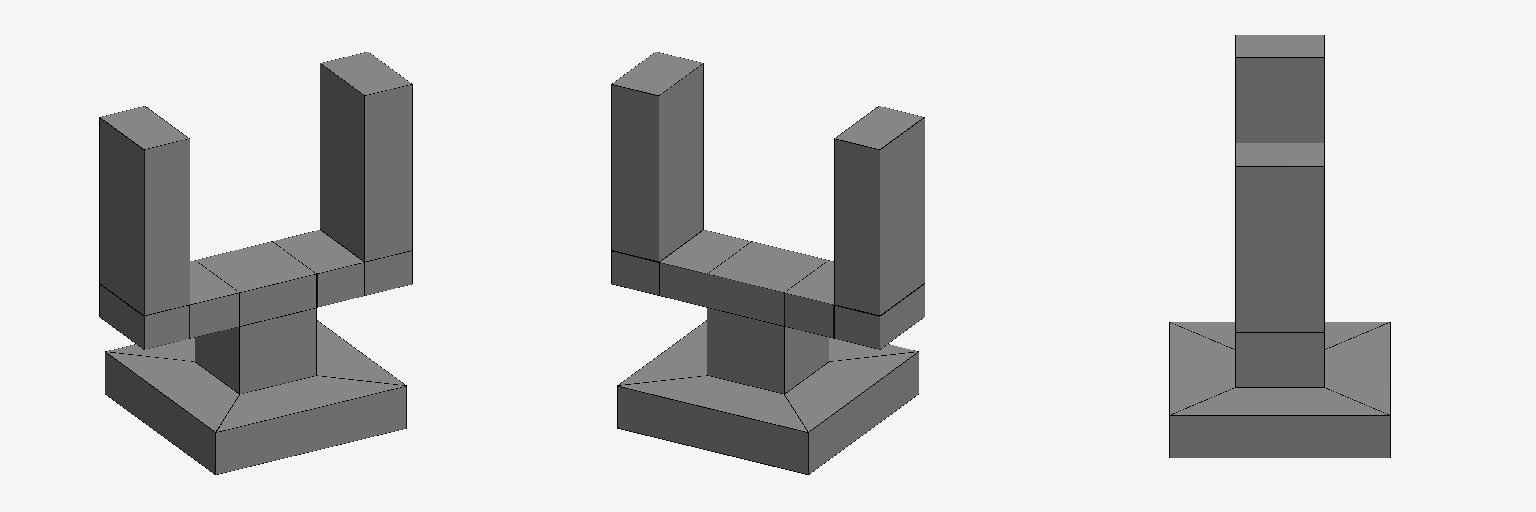
The picture shows the model from 3 angles: view 1: azimuth 30°, elevation 25°; view 2: azimuth 150°, elevation 25°; view 3: azimuth 270°, elevation 25°; orthographic projection.
Visible parts, largest first — view 1: search_light_base_Cube.020; view 2: search_light_base_Cube.020; view 3: search_light_base_Cube.020.
Part boxes in pixels (left/top/right/bottom): search_light_base_Cube.020: left=99, top=52, right=412, bottom=474; search_light_base_Cube.020: left=611, top=52, right=924, bottom=474; search_light_base_Cube.020: left=1169, top=35, right=1390, bottom=457.
Size of the model in its own units: 0.2806 by 0.3101 by 0.2.
Materials: 1 (1 with a texture image).